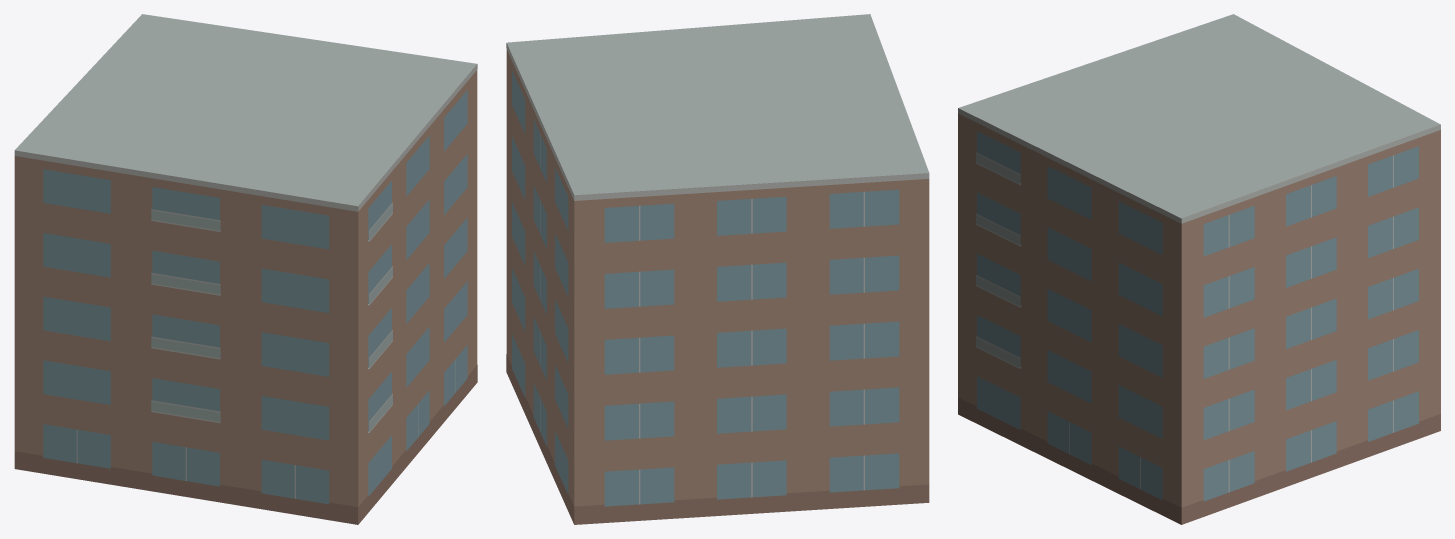
Rendered from survey-upis-32834769.glb.
3 renders of one model, left to right at view 1: azimuth 30°, elevation 25°; view 2: azimuth 150°, elevation 25°; view 3: azimuth 270°, elevation 25°, orthographic. The views are drawn at different scales.
Parts seen in each view (by area): view 1: survey-upis-32834769.tmp; view 2: survey-upis-32834769.tmp; view 3: survey-upis-32834769.tmp.
Part boxes in pixels (box(x1,y1,x2,y2)): survey-upis-32834769.tmp: box(14, 14, 477, 524); survey-upis-32834769.tmp: box(506, 14, 929, 524); survey-upis-32834769.tmp: box(958, 14, 1440, 524).
Bounding box in the file's own units: 20.19 × 14.1 × 20.14.
